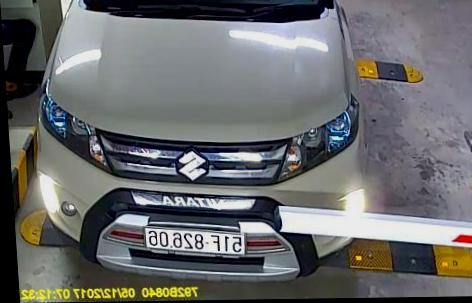License_Plate: (142, 226, 248, 253)
